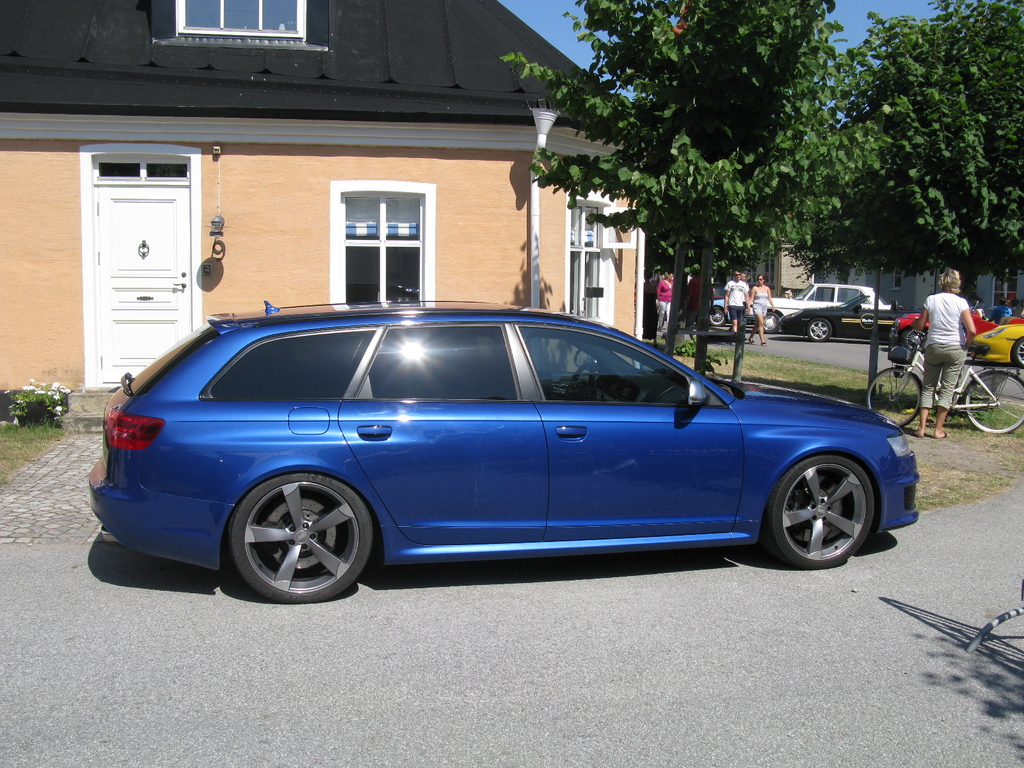Car: (90, 305, 924, 602), (743, 280, 887, 335), (888, 300, 1023, 351), (778, 294, 924, 341), (968, 324, 1023, 368), (712, 298, 732, 325), (708, 282, 727, 298)
